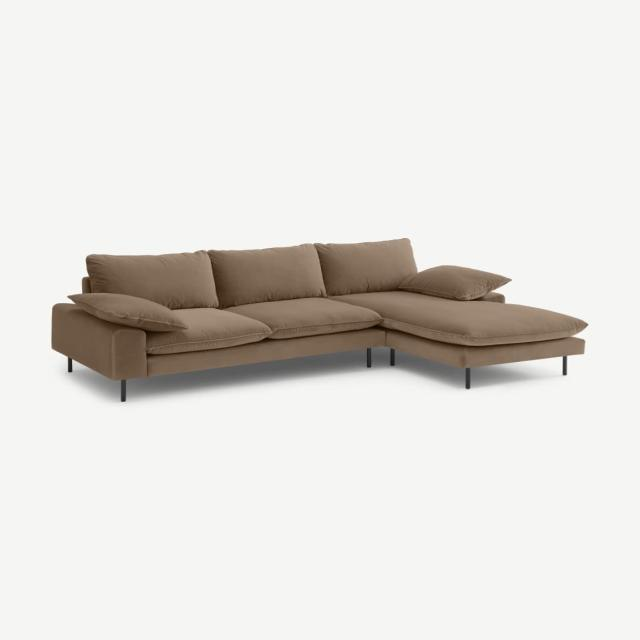Soffa: (53, 237, 592, 402)
